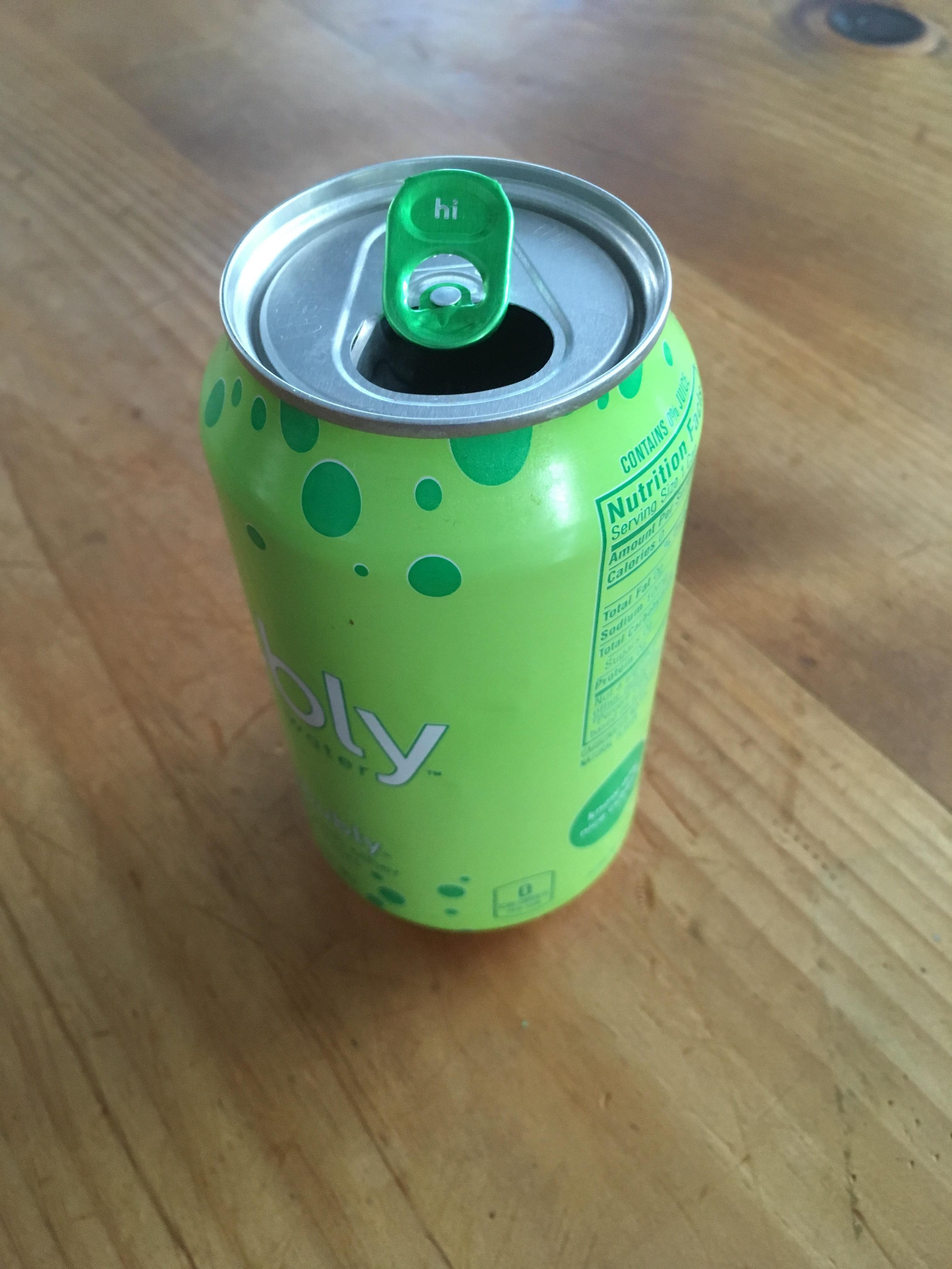metal: (198, 154, 703, 931)
